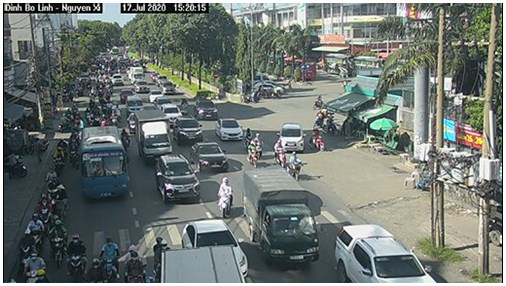xe_buyt: (76, 124, 130, 206)
xe_hoi: (333, 225, 440, 283), (152, 153, 203, 205), (189, 140, 232, 173), (172, 117, 205, 146), (213, 114, 243, 143), (193, 98, 219, 121)
xe_may: (48, 213, 68, 271), (21, 211, 47, 254), (66, 230, 88, 280), (99, 233, 121, 280), (125, 241, 146, 284), (215, 177, 236, 219), (23, 252, 51, 283), (308, 126, 328, 153), (50, 145, 67, 175), (271, 137, 286, 168), (44, 176, 61, 203), (289, 149, 303, 180), (245, 139, 259, 168), (312, 93, 326, 111)
xe_tai: (133, 109, 174, 165)
